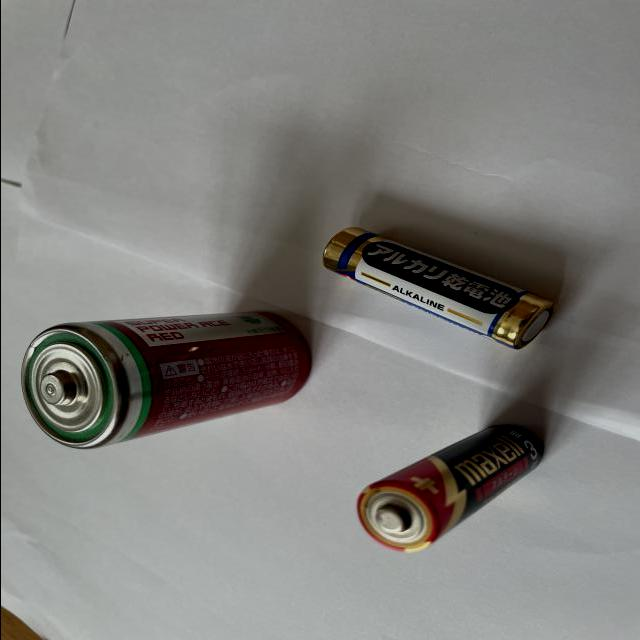AA: (321, 227, 554, 351), (352, 424, 543, 552)
